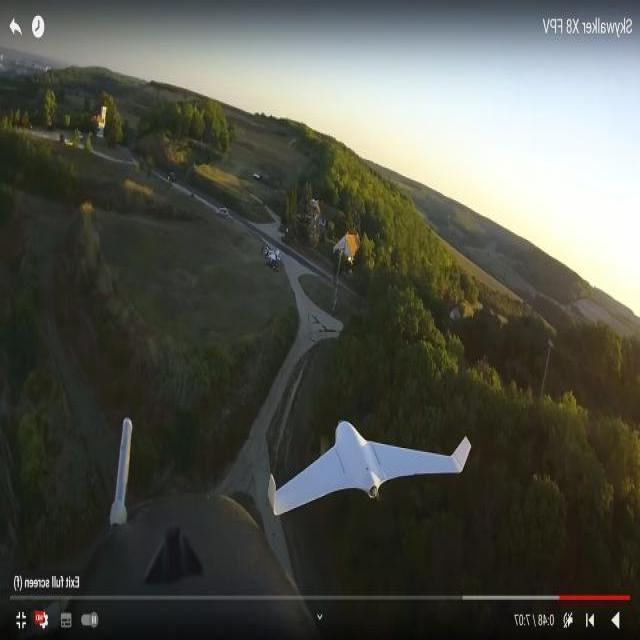iha: (277, 440, 457, 481)
